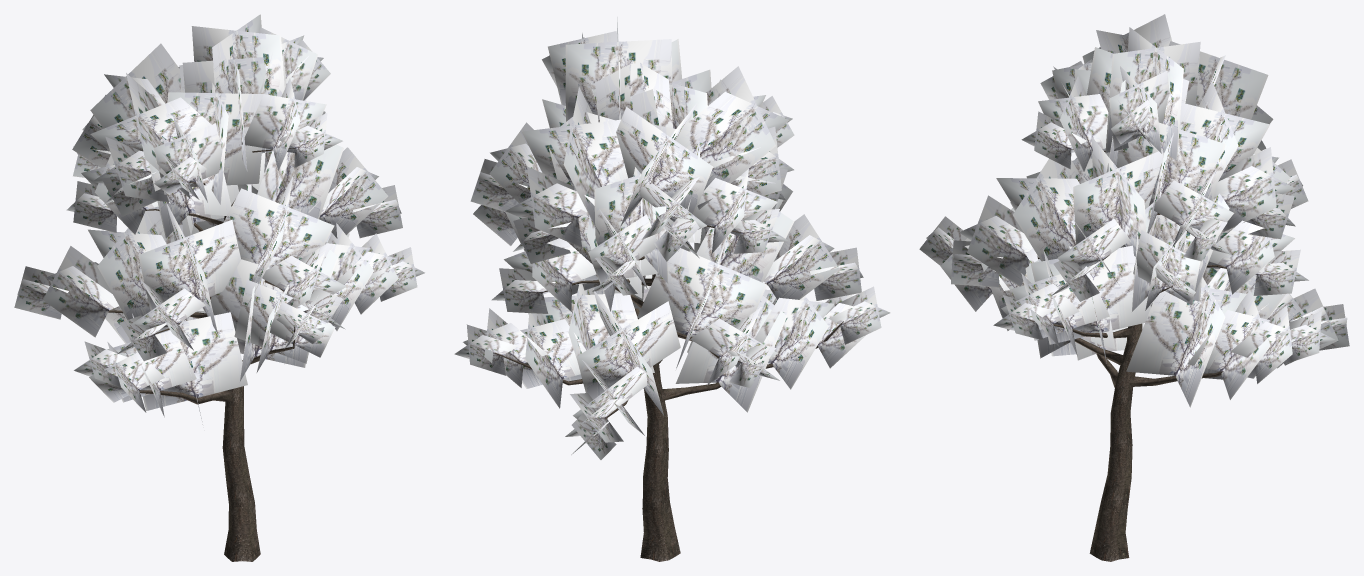
The model's file is TreeWaxCherry-white1-mobile.fbx.
3 views of the same model, side by side, from view 1: azimuth 30°, elevation 25°; view 2: azimuth 150°, elevation 25°; view 3: azimuth 270°, elevation 25° (orthographic). The views are drawn at different scales.
Parts seen in each view (by area): view 1: TreeWaxCherry-white1-mobile_LOD0; view 2: TreeWaxCherry-white1-mobile_LOD0; view 3: TreeWaxCherry-white1-mobile_LOD0.
Part boxes in pixels (bbox=[...]): TreeWaxCherry-white1-mobile_LOD0: bbox=[14, 14, 424, 561]; TreeWaxCherry-white1-mobile_LOD0: bbox=[454, 17, 890, 561]; TreeWaxCherry-white1-mobile_LOD0: bbox=[919, 14, 1349, 561].
Size of what is drawn, in the model's own units: 455 by 659 by 495.
